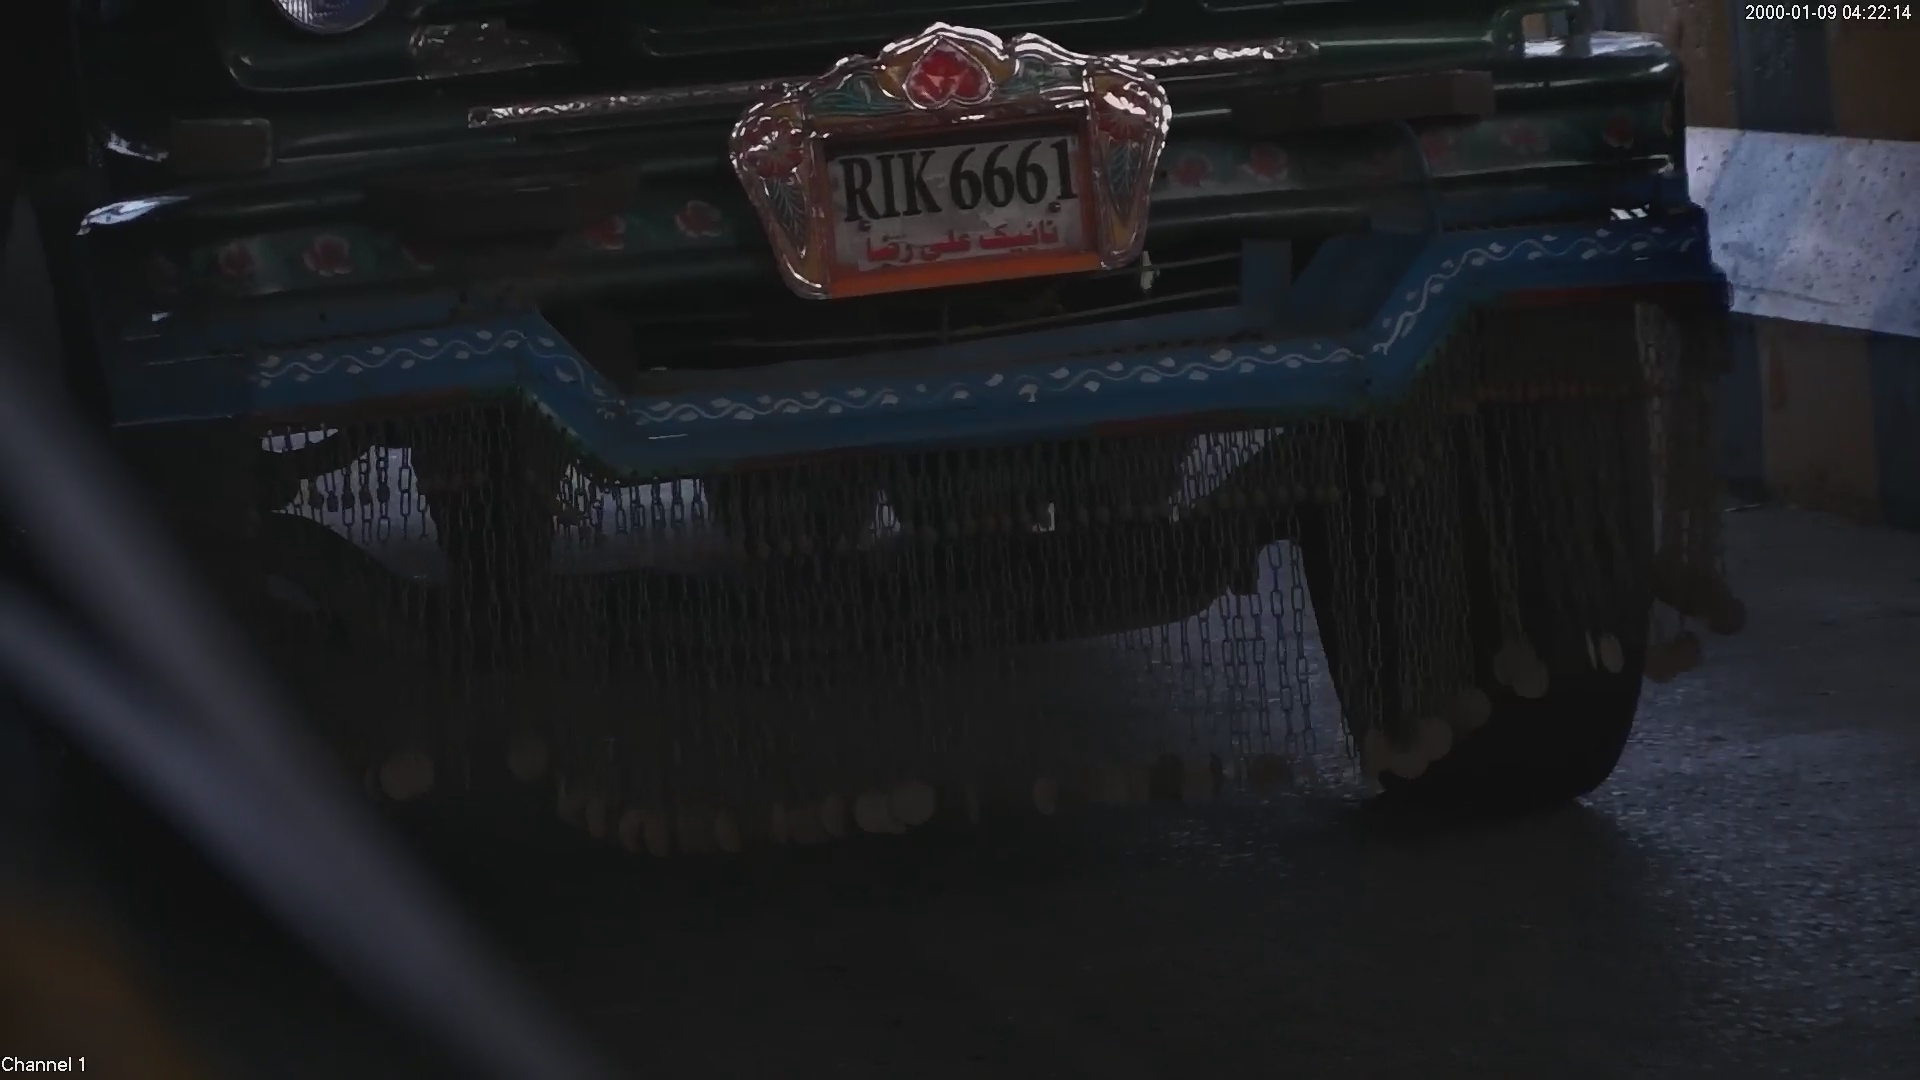Number_Plate: (793, 101, 1134, 290)
